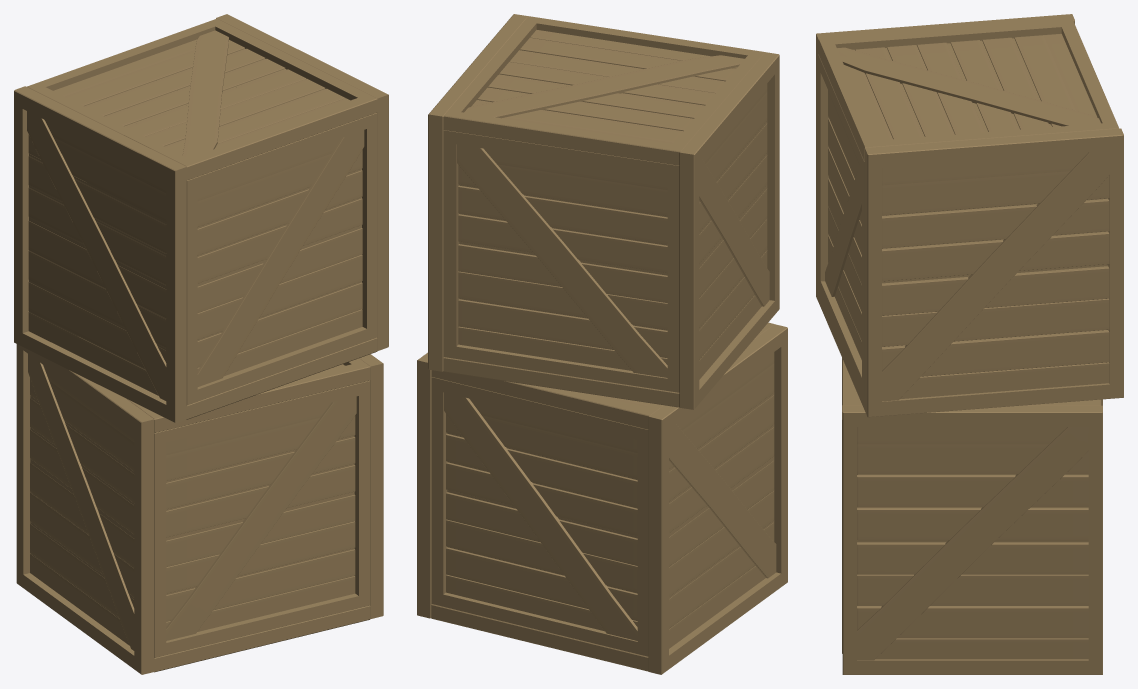
The model's file is M_Torre Cajas2.fbx.
The picture shows the model from 3 angles, left to right: view 1: azimuth 30°, elevation 25°; view 2: azimuth 150°, elevation 25°; view 3: azimuth 270°, elevation 25°; orthographic projection. The views are drawn at different scales.
Parts seen in each view (by area): view 1: CrateV8_group6_pPlane21; view 2: CrateV8_group6_pPlane21; view 3: CrateV8_group6_pPlane21.
Boxes of the visible parts, x1=… form: CrateV8_group6_pPlane21: x1=14, y1=14, x2=388, y2=674; CrateV8_group6_pPlane21: x1=417, y1=14, x2=787, y2=674; CrateV8_group6_pPlane21: x1=816, y1=14, x2=1123, y2=674.
Size of the model in its own units: 8.23 by 14.45 by 7.6.
